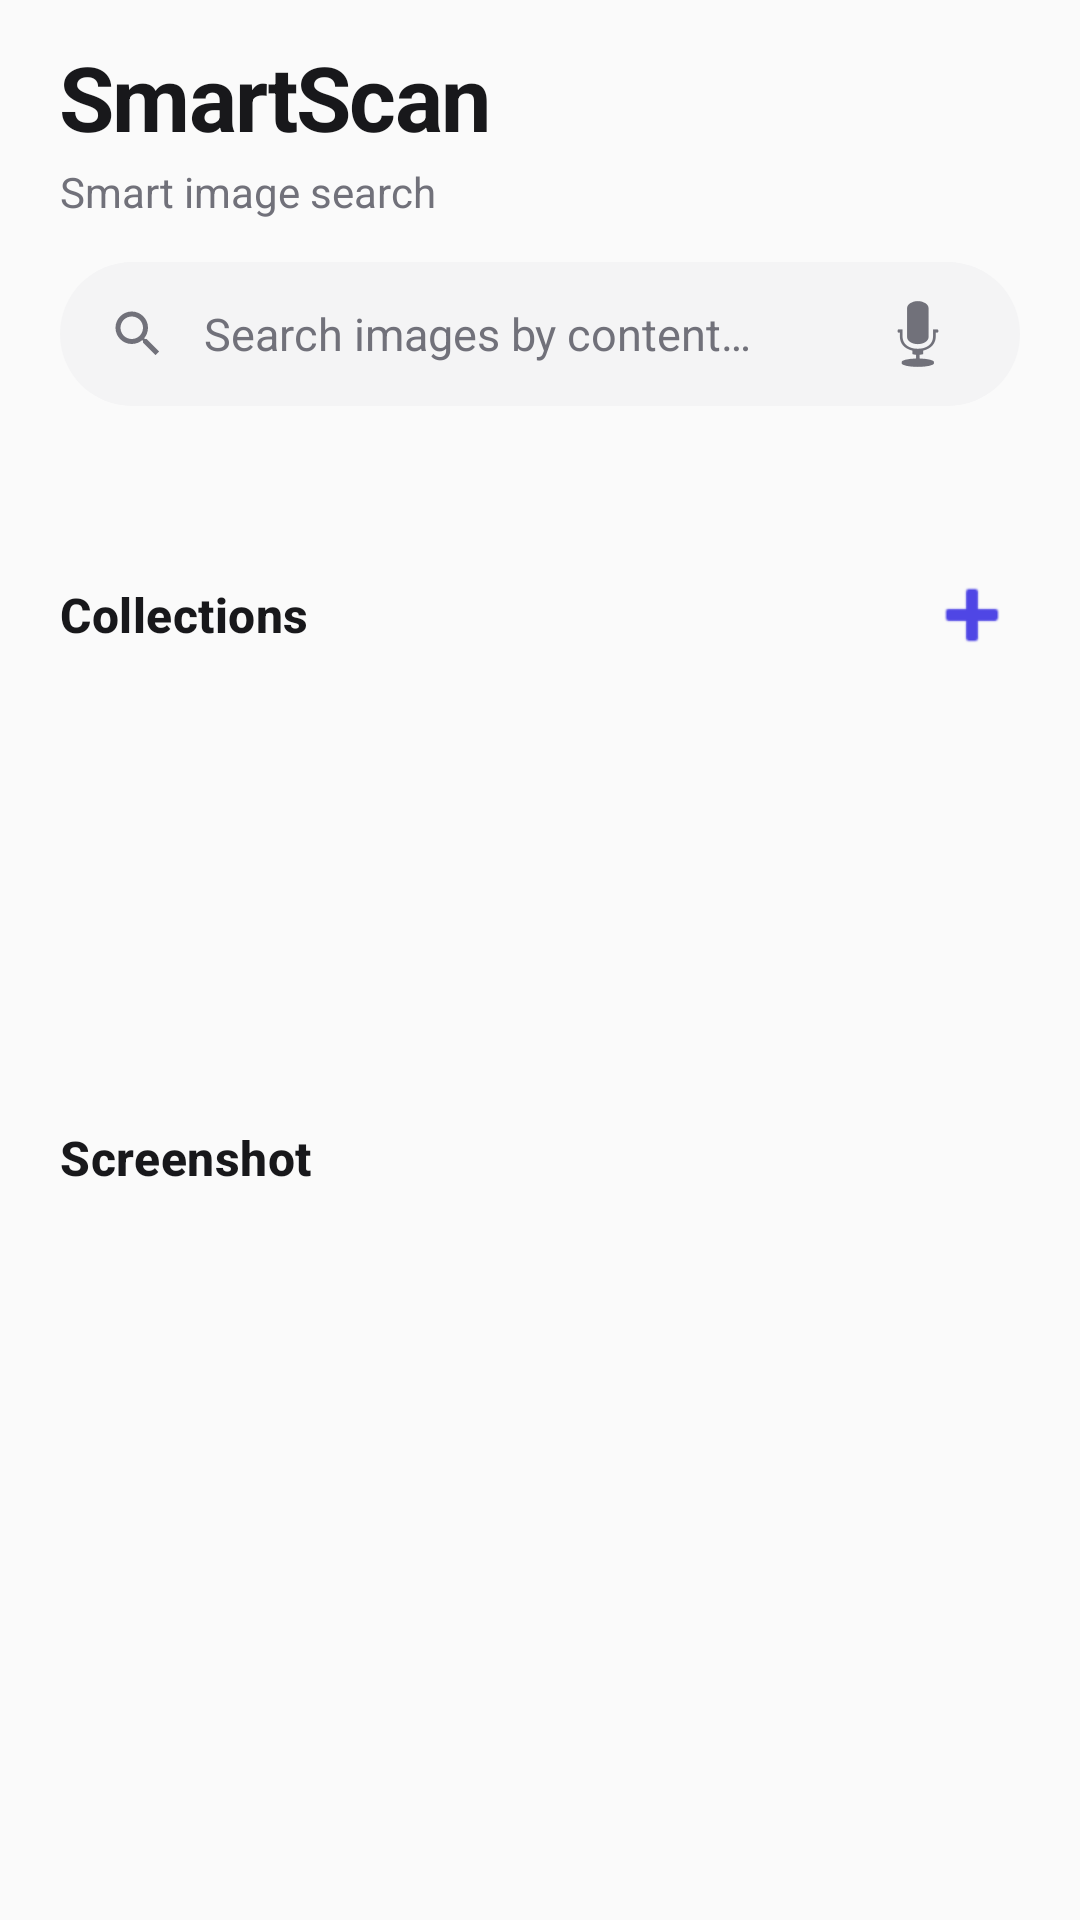

Where to tap for icons on this 1080w x 1920h app screen, as [x,y]:
Create collection: [972,615]
Voice search: [918,334]
